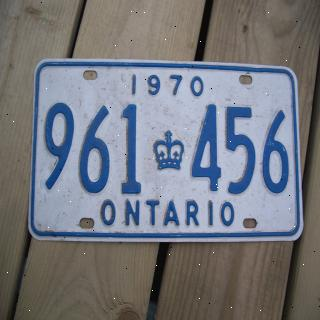license: (29, 59, 306, 244)
